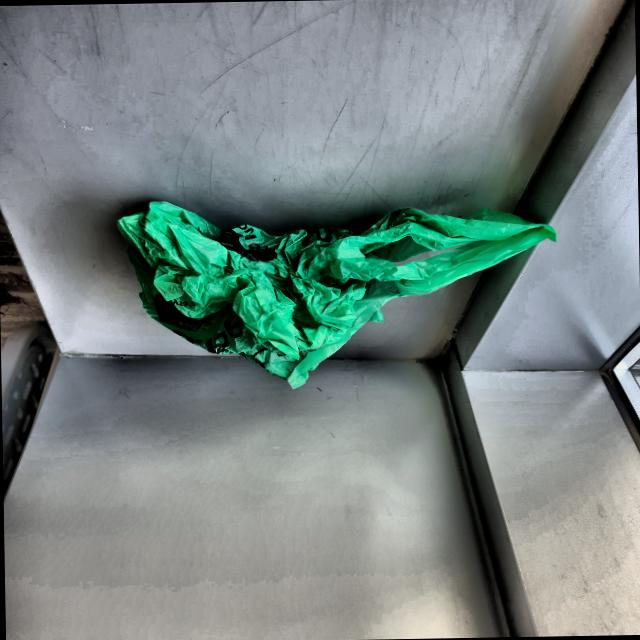plastic bag: (58, 165, 568, 395)
